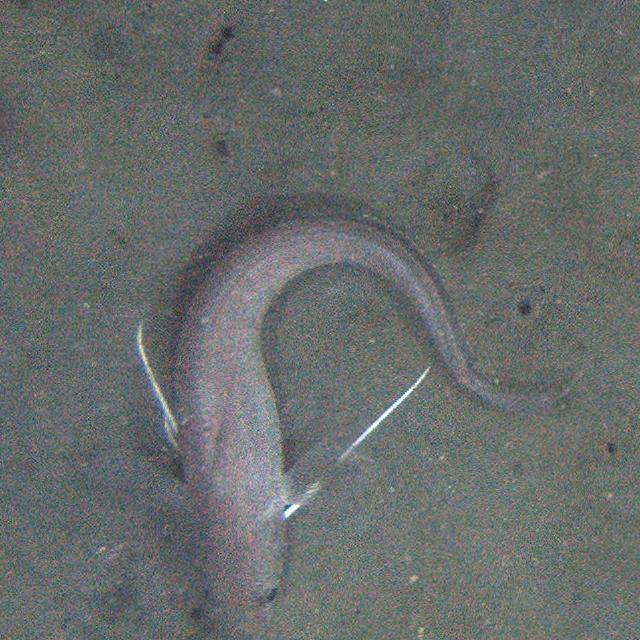roundfish: (134, 211, 580, 615)
